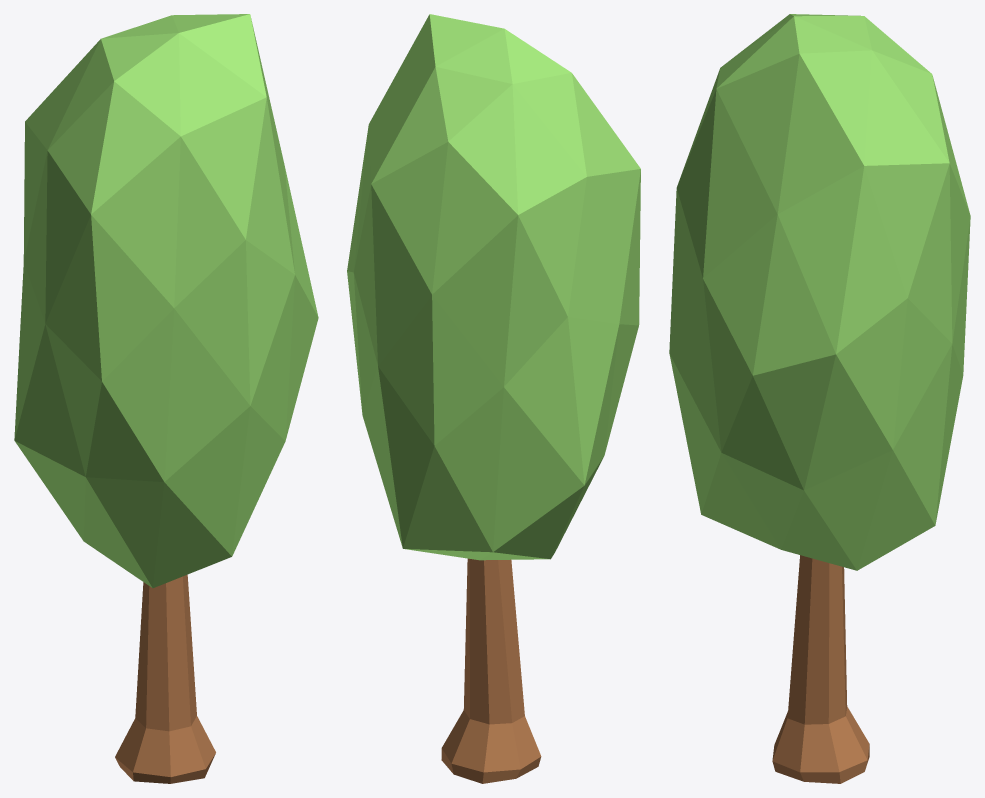
Rendered from Tree9.fbx.
The picture shows the model from 3 angles, left to right: view 1: azimuth 30°, elevation 25°; view 2: azimuth 150°, elevation 25°; view 3: azimuth 270°, elevation 25°; orthographic projection. The views are drawn at different scales.
Parts seen in each view (by area): view 1: Tree9; view 2: Tree9; view 3: Tree9.
Boxes of the visible parts, <box> form: Tree9: <box>14,14,318,783</box>; Tree9: <box>347,14,640,783</box>; Tree9: <box>669,14,970,783</box>.
Size of the model in its own units: 194 by 518 by 189.
